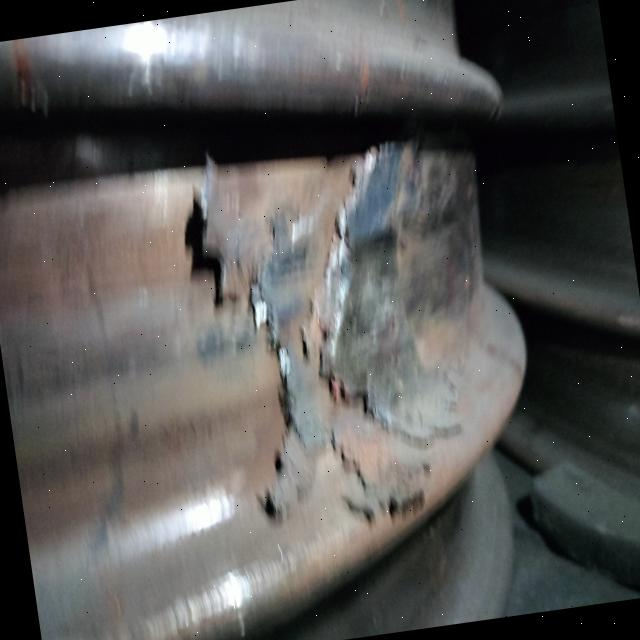Rollerpile: (166, 126, 486, 520)
